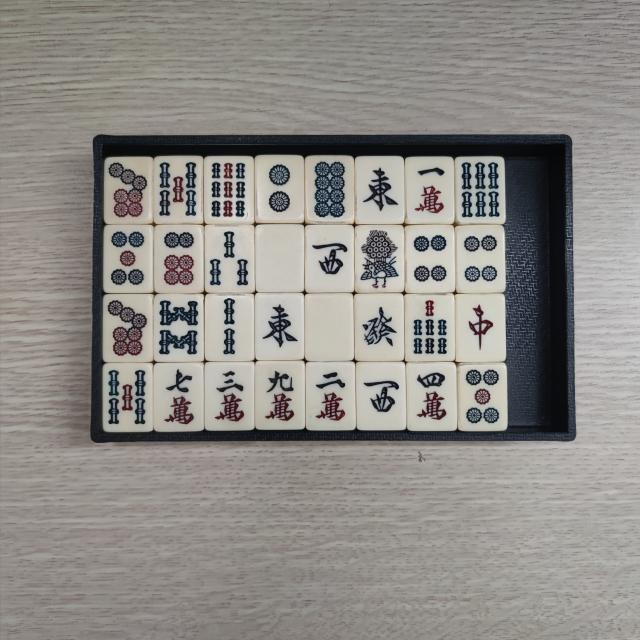hdg: (360, 298, 402, 357)
hdr: (460, 298, 500, 358)
hdw: (310, 299, 350, 358), (261, 230, 301, 288)
hwe: (360, 160, 402, 218), (260, 296, 300, 356)
hww: (362, 366, 404, 425), (311, 230, 352, 290)
sb1: (358, 228, 401, 292)
sb2: (208, 296, 250, 358)
sb3: (209, 228, 253, 290)
sb5: (158, 158, 201, 220), (105, 366, 148, 428)
sb6: (460, 159, 502, 219)
sb7: (411, 298, 453, 358)
sb8: (158, 298, 202, 360)
sb9: (208, 159, 248, 220)
sc1: (412, 160, 451, 218)
sc2: (310, 366, 350, 426)
sc3: (210, 366, 251, 426)
sc4: (412, 364, 452, 424)
sc7: (158, 366, 199, 428)
sc9: (260, 364, 300, 426)
sd2: (260, 158, 300, 220)
sd4: (409, 229, 452, 289), (462, 229, 502, 288)
sd5: (108, 228, 148, 288), (462, 368, 502, 427)
sd6: (160, 228, 200, 288)
sd7: (105, 298, 148, 358), (106, 160, 148, 220)
sd8: (309, 158, 350, 218)
